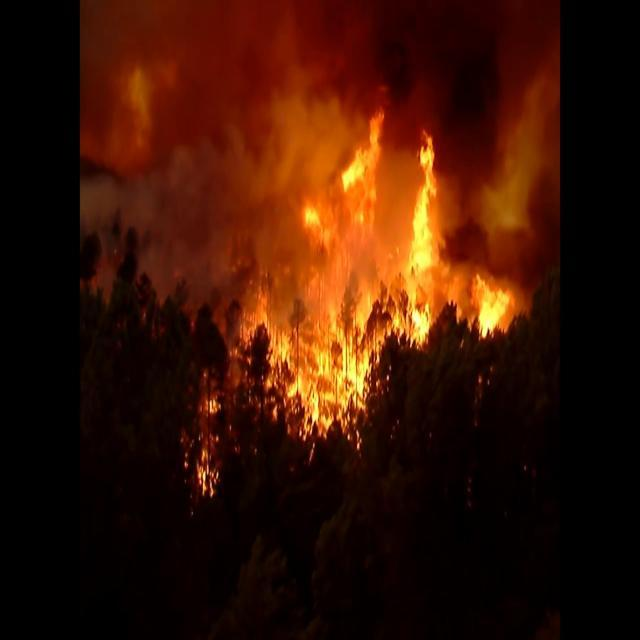Fire: (256, 102, 446, 438), (193, 366, 230, 506), (468, 272, 512, 344)
Smoke: (80, 0, 346, 301), (422, 13, 562, 296)
